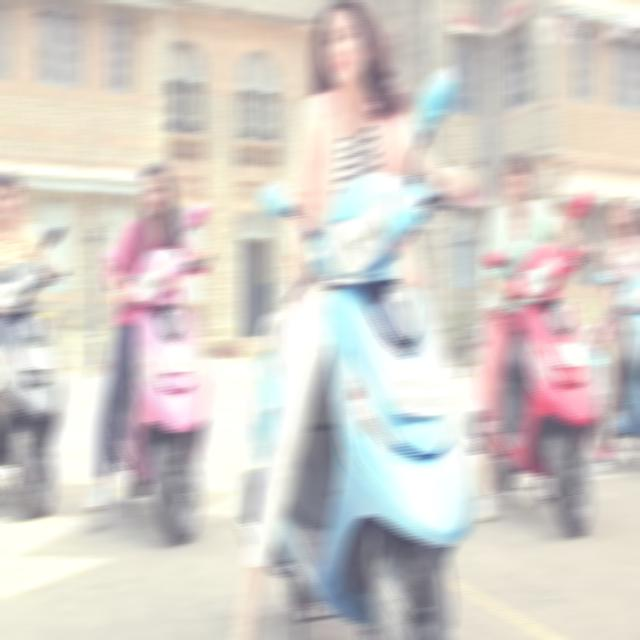Without Helmet: (312, 0, 376, 88), (494, 145, 536, 202), (0, 161, 27, 221), (606, 181, 636, 235), (134, 153, 176, 175)
